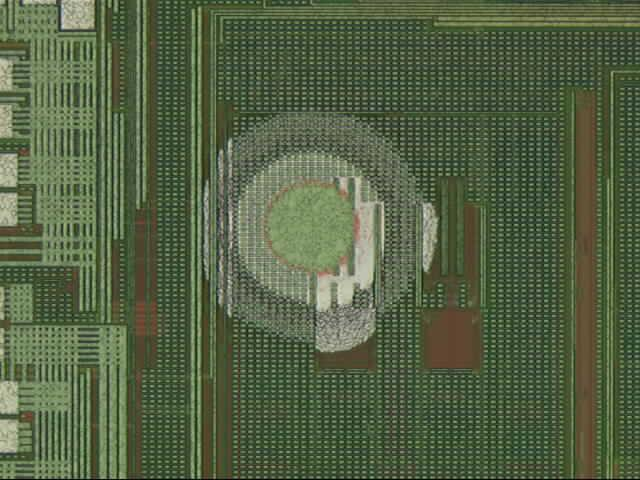BLOCK ETCH: (188, 106, 444, 355)
